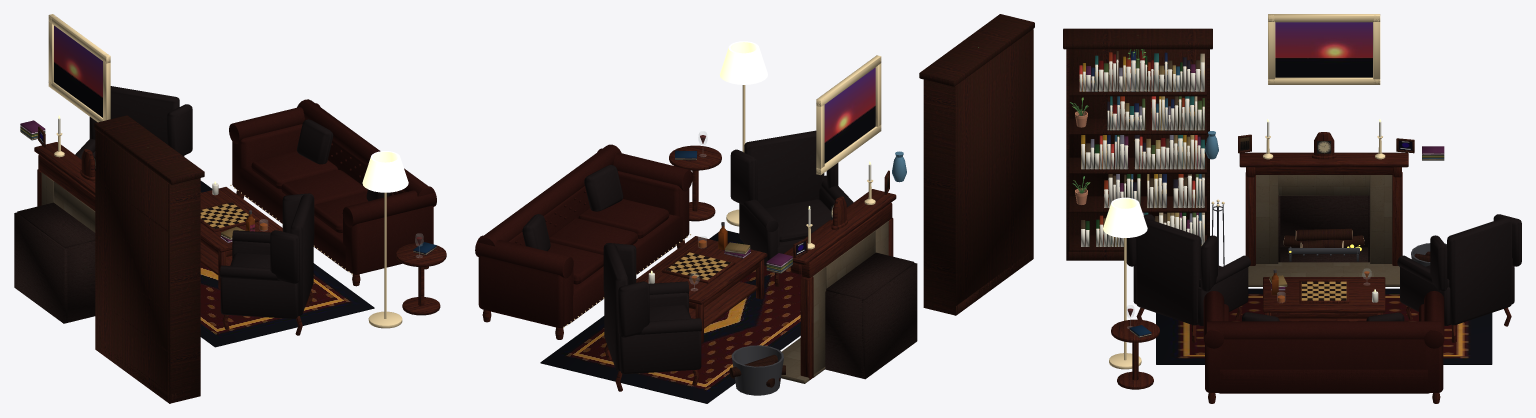
File: lounge.glb
The picture shows the model from 3 angles, left to right: view 1: azimuth 30°, elevation 25°; view 2: azimuth 150°, elevation 25°; view 3: azimuth 270°, elevation 25°; orthographic projection. The views are drawn at different scales.
Visible parts, largest first — view 1: Shelf wood, Chesterfield leather, Wingback velvet, Firebox brick, Mantel wood, Rug, Brass, Photos, Lamp shade, Surround marble, Chess squares, Book spines; view 2: Shelf wood, Chesterfield leather, Wingback velvet, Mantel wood, Rug, Firebox brick, Surround marble, Photos, Brass, Cast iron, Lamp shade, Chess squares (+1 smaller); view 3: Chesterfield leather, Wingback velvet, Shelf wood, Mantel wood, Pages, Book spines, Surround marble, Photos, Rug, Firebox brick, Brass, Log bark (+3 smaller).
Part boxes in pixels (x1,y1,x2,y2): Shelf wood: (94,115,204,403); Chesterfield leather: (229,99,436,274); Wingback velvet: (75,86,389,318); Firebox brick: (14,202,95,323); Mantel wood: (34,142,446,335); Rug: (200,181,374,347); Brass: (48,14,402,328); Photos: (39,25,102,143); Lamp shade: (362,151,408,192); Surround marble: (41,172,95,232); Chess squares: (200,202,254,228); Book spines: (20,120,436,255); Shelf wood: (919,14,1034,315); Chesterfield leather: (475,144,692,328); Wingback velvet: (522,130,853,374); Mantel wood: (482,145,896,391); Rug: (540,230,801,403); Firebox brick: (825,252,917,379); Surround marble: (781,221,888,383); Photos: (796,67,888,255); Brass: (563,55,881,327); Cast iron: (731,345,783,395); Lamp shade: (719,41,767,84); Chess squares: (666,252,731,280); Chesterfield leather: (1203,291,1444,393); Wingback velvet: (1126,214,1521,325); Shelf wood: (1063,28,1212,260); Mantel wood: (1111,132,1511,403); Pages: (1079,59,1204,246); Book spines: (1079,51,1444,337); Surround marble: (1248,175,1399,286); Photos: (1240,22,1412,150); Rug: (1156,288,1492,364); Firebox brick: (1278,195,1369,262); Brass: (1109,14,1385,369); Log bark: (1284,228,1430,261).
Size of the model in its own units: 3.71 by 2.73 by 4.5.
Materials: 33 (16 with a texture image).
